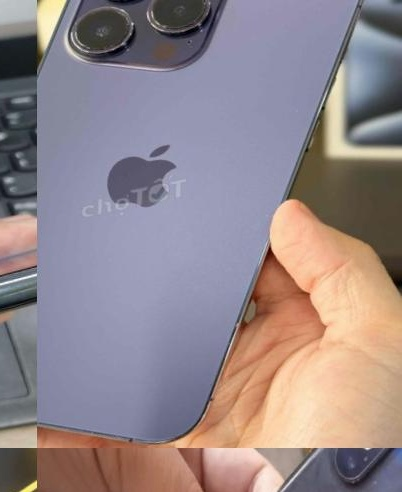scratch: (361, 468, 385, 492)
